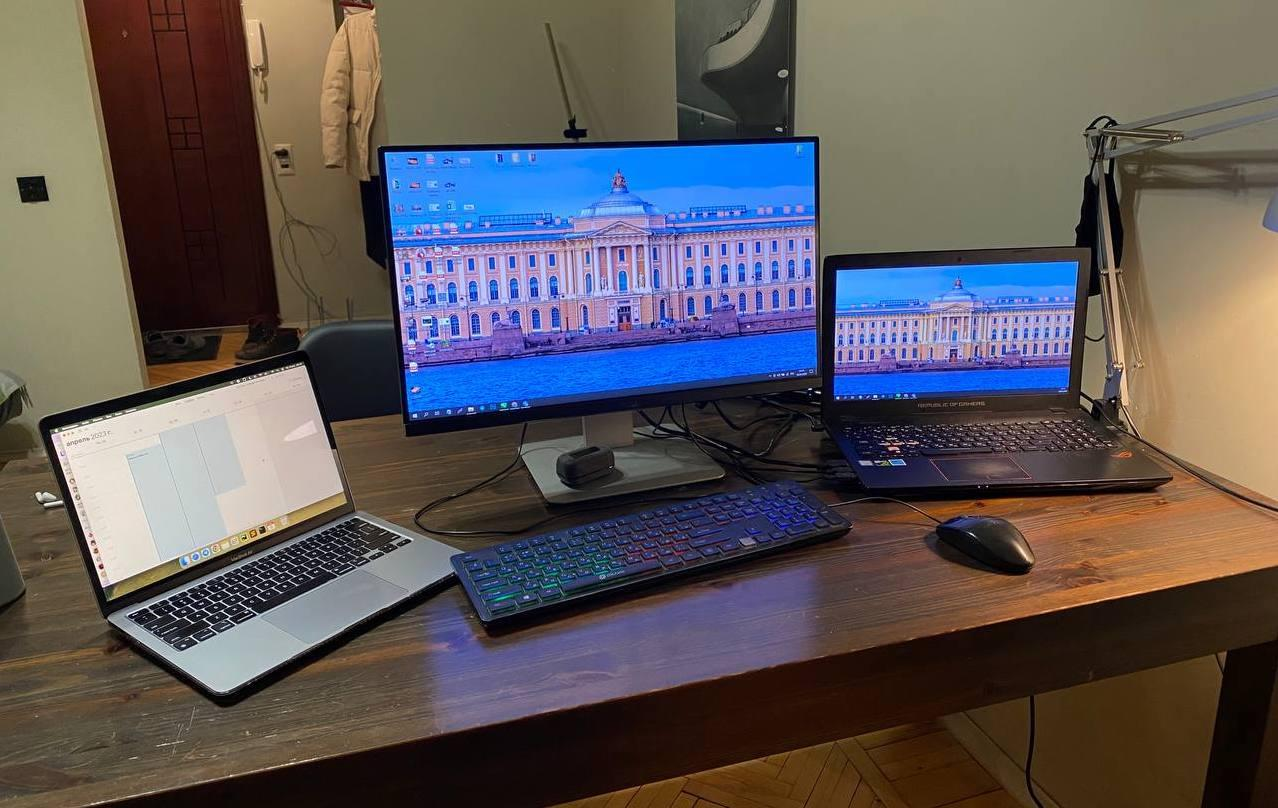monitor: (374, 129, 823, 444), (34, 344, 359, 623), (814, 240, 1100, 424)
